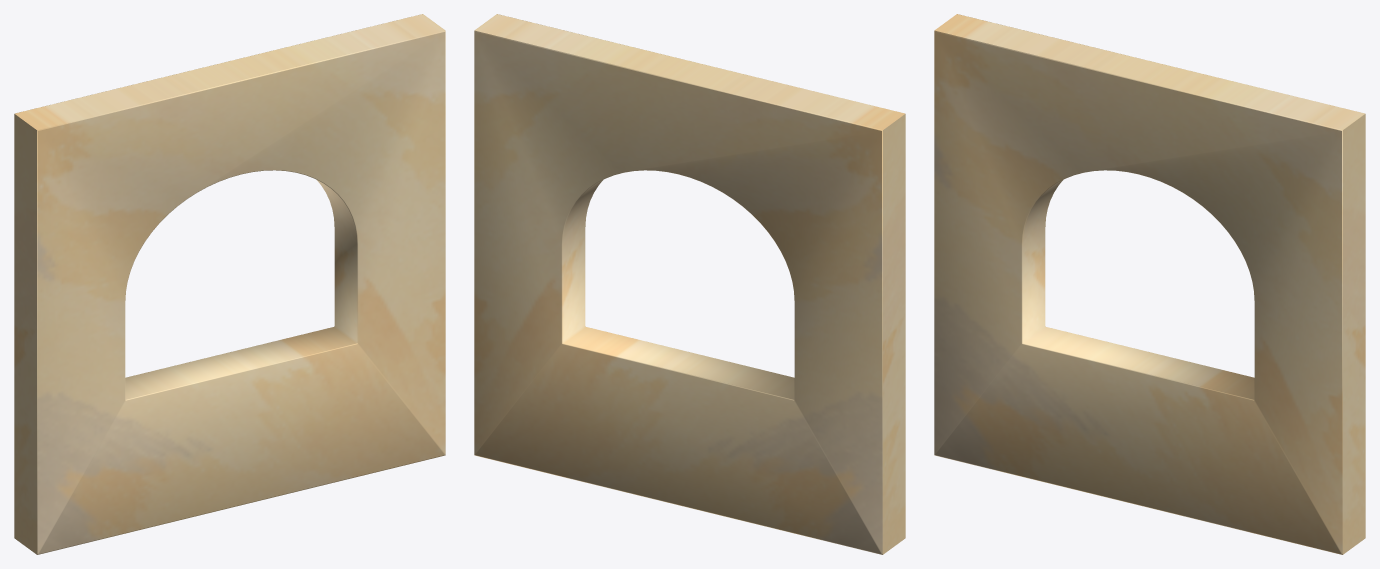
File: CM_FacadeBay01_WindowOpening_3m_Benchmark.fbx
The picture shows the model from 3 angles, left to right: view 1: azimuth 30°, elevation 25°; view 2: azimuth 150°, elevation 25°; view 3: azimuth 330°, elevation 25°; orthographic projection.
Parts seen in each view (by area): view 1: CM_FacadeBay01_WindowOpening_3m_Benchmark_RevealedPlaster; view 2: CM_FacadeBay01_WindowOpening_3m_Benchmark_RevealedPlaster; view 3: CM_FacadeBay01_WindowOpening_3m_Benchmark_RevealedPlaster.
Boxes of the visible parts, left/top/right/bottom form: CM_FacadeBay01_WindowOpening_3m_Benchmark_RevealedPlaster: left=14, top=14, right=445, bottom=554; CM_FacadeBay01_WindowOpening_3m_Benchmark_RevealedPlaster: left=474, top=14, right=905, bottom=554; CM_FacadeBay01_WindowOpening_3m_Benchmark_RevealedPlaster: left=934, top=14, right=1365, bottom=554.
Size of the model in its own units: 2.82 by 2.8 by 0.2821.
